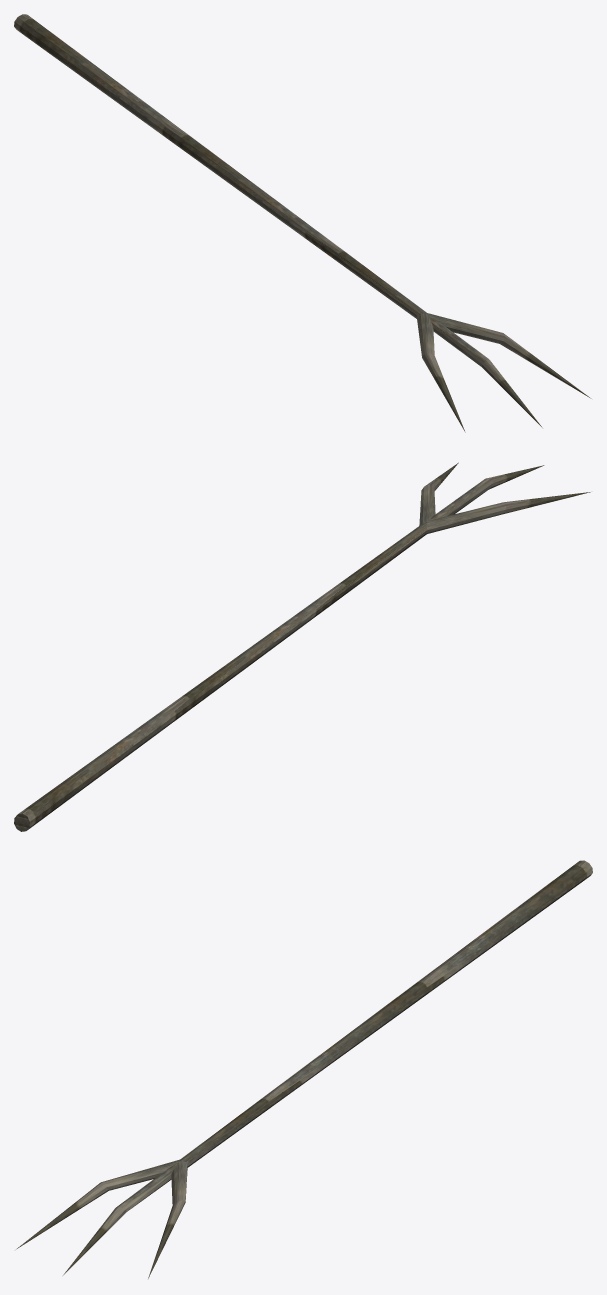
File: pitchfork.glb
The picture shows the model from 3 angles, top to bottom: view 1: azimuth 30°, elevation 25°; view 2: azimuth 150°, elevation 25°; view 3: azimuth 330°, elevation 25°; orthographic projection.
Visible parts, largest first — view 1: Cylinder; view 2: Cylinder; view 3: Cylinder.
Boxes of the visible parts, x1,y1,x2,y2 form: Cylinder: (14,14,591,432); Cylinder: (14,462,590,831); Cylinder: (16,860,592,1278).
Size of the model in its own units: 1.52 by 0.3808 by 10.58.
1 material, 1 textured.
